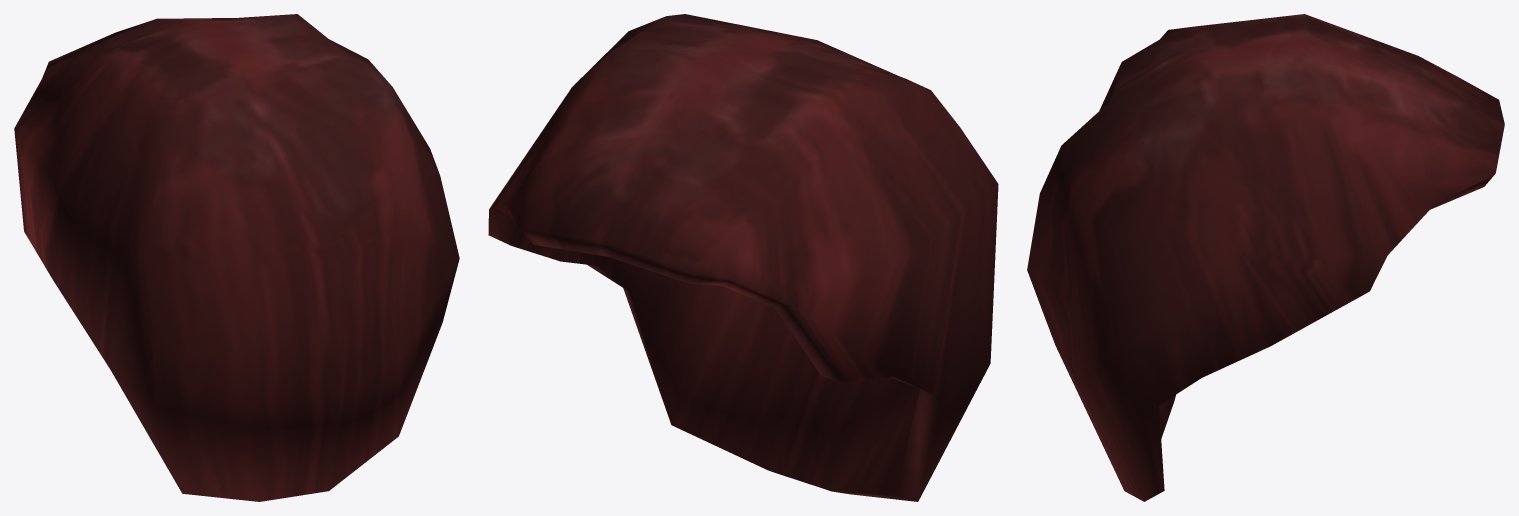
The model's file is hair2.glb.
3 renders of one model, left to right at view 1: azimuth 30°, elevation 25°; view 2: azimuth 150°, elevation 25°; view 3: azimuth 270°, elevation 25°, orthographic. The views are drawn at different scales.
Visible parts, largest first — view 1: hair2; view 2: hair2; view 3: hair2.
Boxes of the visible parts, x1=… form: hair2: x1=14, y1=14, x2=459, y2=501; hair2: x1=488, y1=14, x2=998, y2=501; hair2: x1=1027, y1=14, x2=1504, y2=501.
Size of the model in its own units: 0.1657 by 0.2015 by 0.2018.
Materials: 1 (1 with a texture image).
